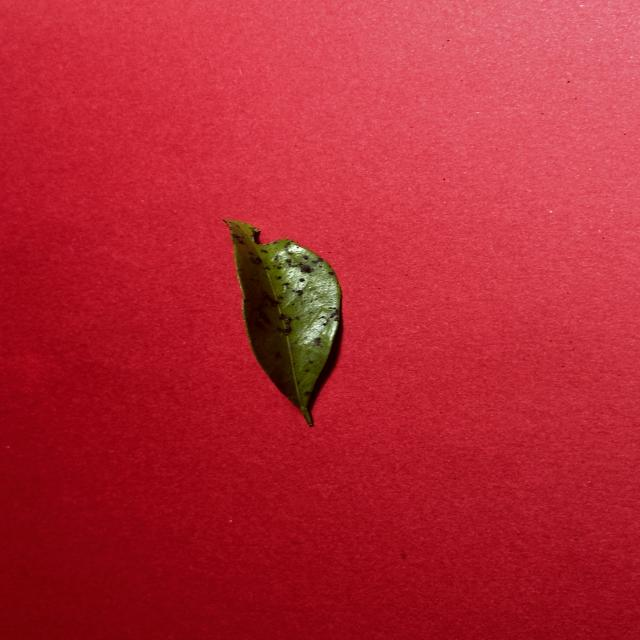sooty_mold: (224, 221, 341, 425)
